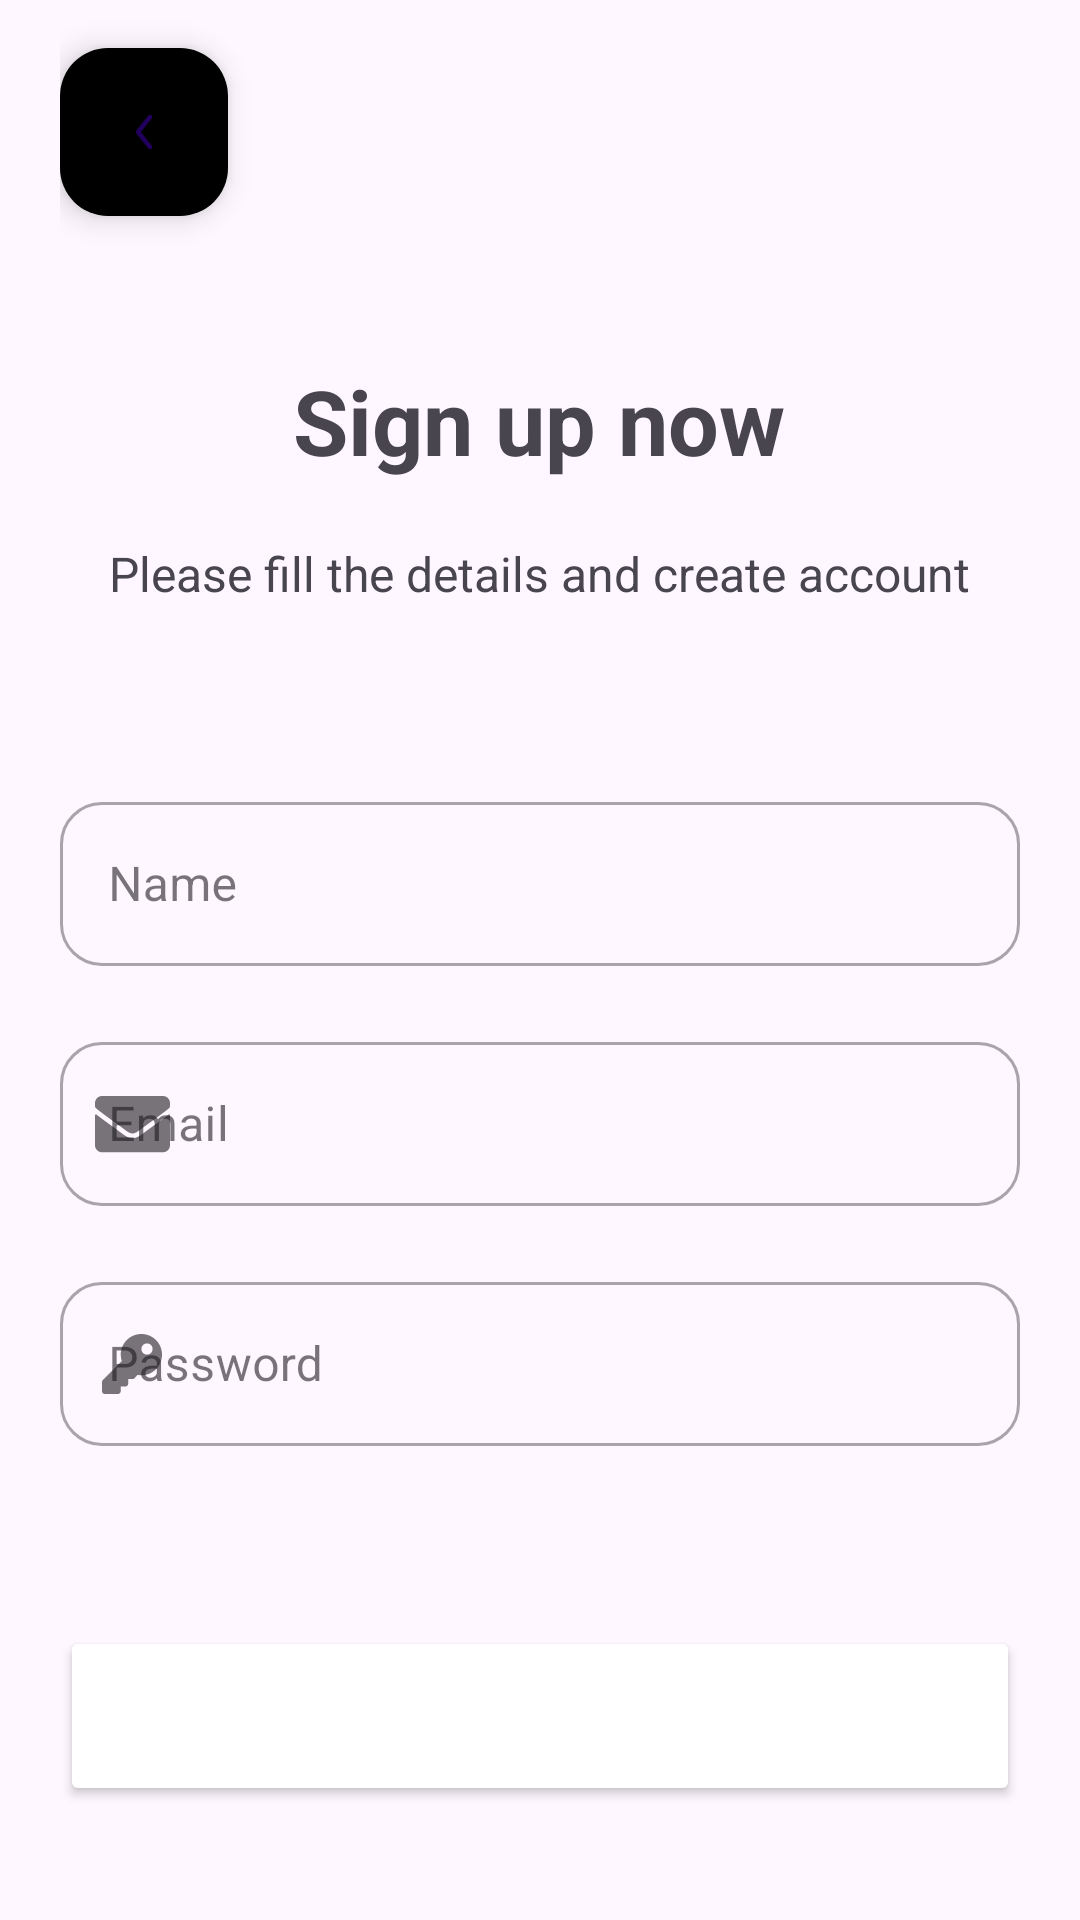

Where icons sit on this 1080×1920 app screen, as (x1, y1, x2, y2):
back arrow: (60, 48, 228, 216)
